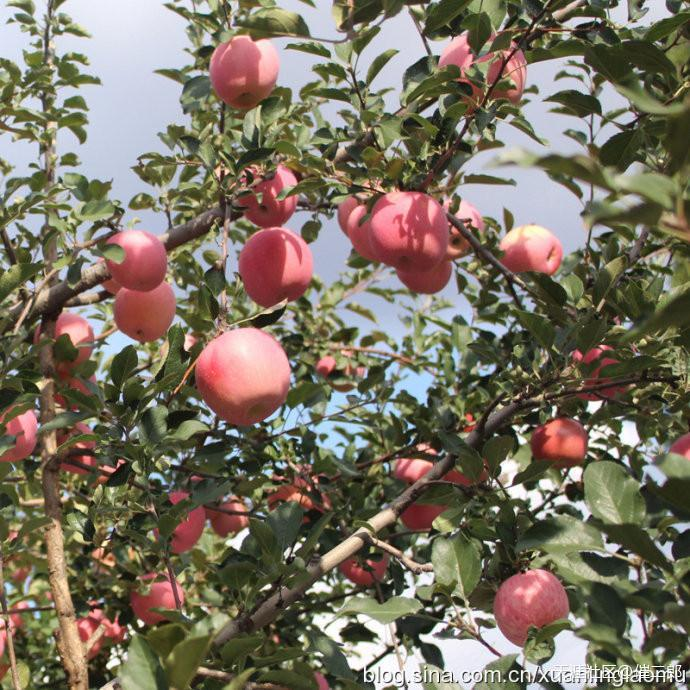apple: (194, 327, 290, 424), (366, 190, 448, 273), (237, 227, 316, 308), (492, 568, 568, 646), (208, 35, 280, 110), (102, 230, 168, 293), (112, 280, 174, 342), (496, 223, 561, 276), (128, 572, 185, 624), (530, 417, 585, 463)
